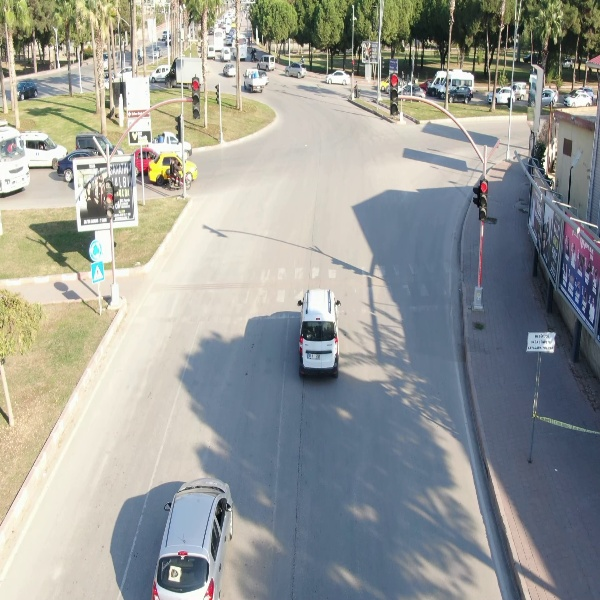car: (150, 476, 236, 599), (295, 287, 343, 376), (560, 86, 595, 109), (448, 85, 476, 106), (325, 67, 354, 87), (284, 59, 307, 80), (257, 52, 278, 73)
